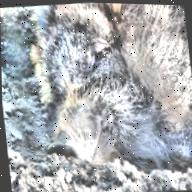boar: (16, 0, 192, 185)
